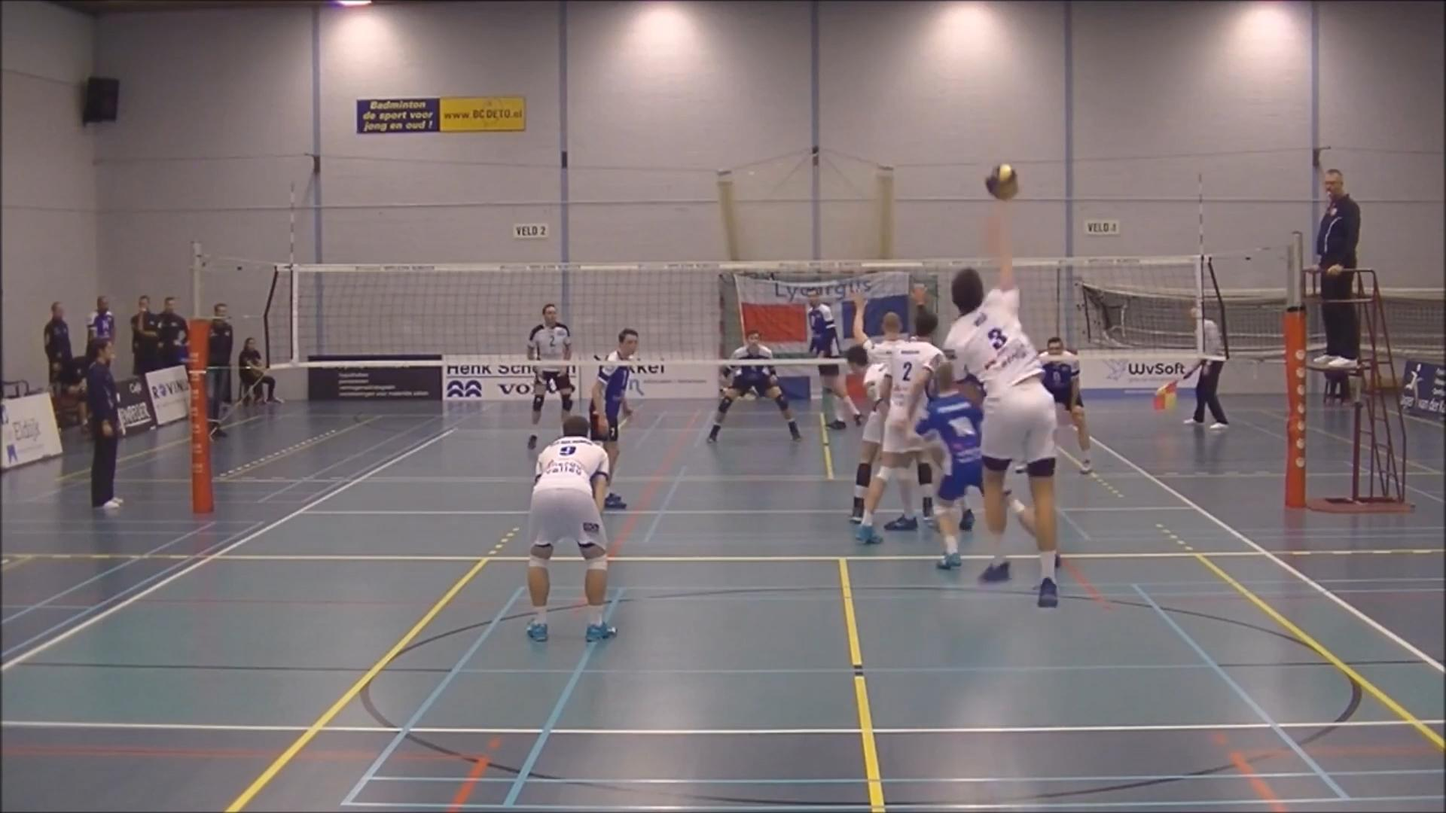battuta: (942, 201, 1066, 618)
